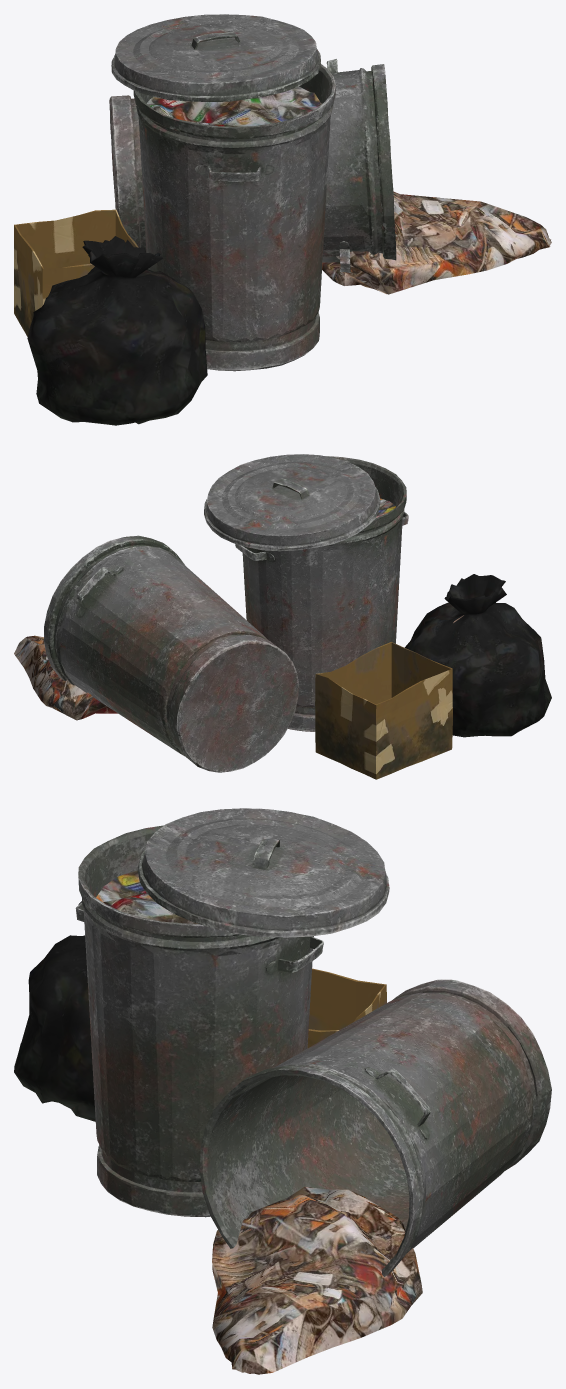
The model's file is prop_trashcan.glb.
The picture shows the model from 3 angles, top to bottom: view 1: azimuth 30°, elevation 25°; view 2: azimuth 150°, elevation 25°; view 3: azimuth 270°, elevation 25°; orthographic projection. The views are drawn at different scales.
Visible parts, largest first — view 1: LATA-material, DEMAS-material (×2); view 2: LATA-material, DEMAS-material (×2); view 3: LATA-material, DEMAS-material (×2).
Part boxes in pixels (<box>): LATA-material: <box>109,14,396,371</box>; DEMAS-material (×2): <box>14,86,551,425</box>; LATA-material: <box>43,454,408,772</box>; DEMAS-material (×2): <box>14,498,551,779</box>; LATA-material: <box>75,808,551,1276</box>; DEMAS-material (×2): <box>14,870,422,1374</box>.
Size of the model in its own units: 2.19 by 1.03 by 1.49.
Materials: 2 (2 with a texture image).
